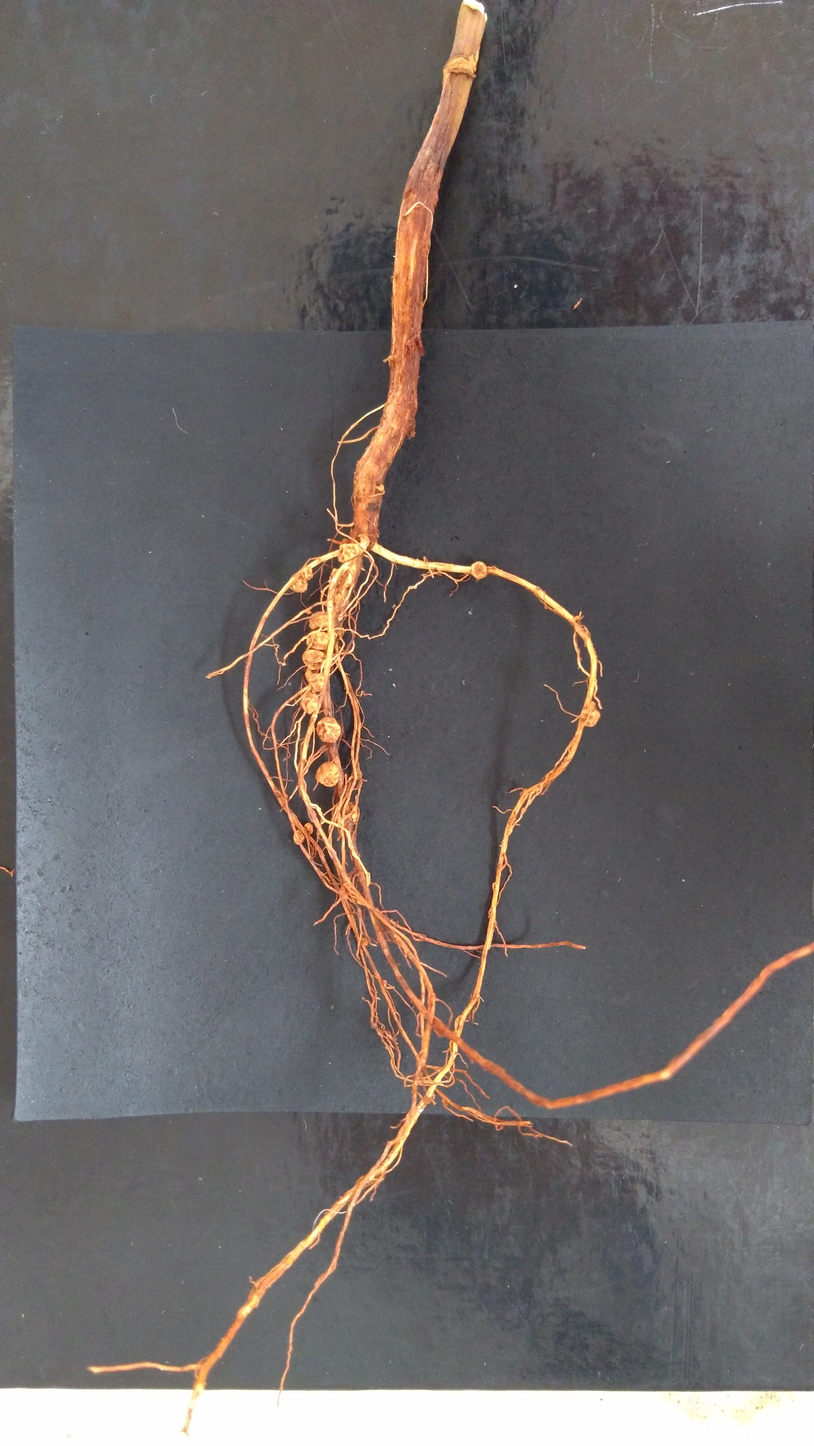nodule: (331, 800, 360, 824), (316, 716, 341, 743), (315, 761, 340, 787), (329, 568, 353, 591), (302, 649, 326, 671), (309, 611, 335, 631), (305, 666, 325, 691), (306, 630, 330, 650), (337, 542, 359, 563), (299, 691, 319, 714), (580, 707, 601, 728), (289, 573, 308, 593), (471, 561, 487, 580), (292, 829, 305, 846), (300, 566, 313, 580), (304, 822, 314, 835), (336, 626, 345, 640), (408, 427, 417, 438), (359, 937, 369, 946), (588, 700, 596, 711), (339, 886, 346, 895), (341, 891, 348, 899), (377, 484, 385, 491), (432, 1093, 436, 1099), (306, 610, 311, 614)
